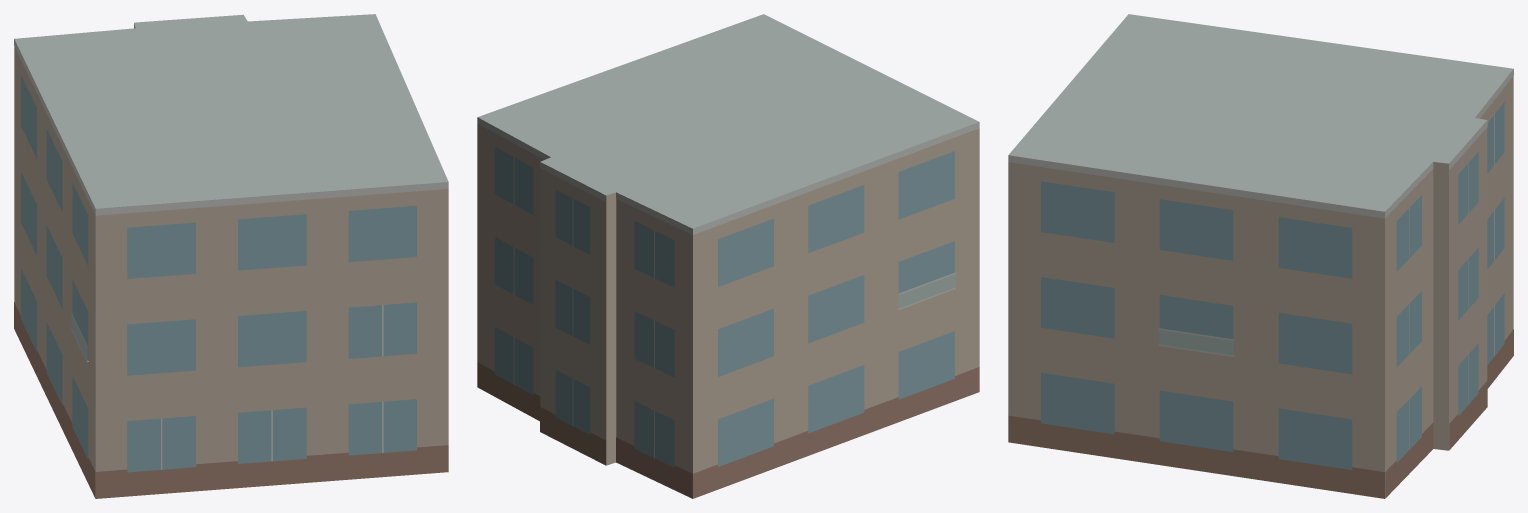
Rendered from survey-upis-32888504.glb.
The picture shows the model from 3 angles, left to right: view 1: azimuth 30°, elevation 25°; view 2: azimuth 150°, elevation 25°; view 3: azimuth 270°, elevation 25°; orthographic projection. The views are drawn at different scales.
Visible parts, largest first — view 1: survey-upis-32888504.tmp; view 2: survey-upis-32888504.tmp; view 3: survey-upis-32888504.tmp.
Boxes of the visible parts, left/top/right/bottom form: survey-upis-32888504.tmp: left=14, top=14, right=448, bottom=498; survey-upis-32888504.tmp: left=477, top=14, right=979, bottom=498; survey-upis-32888504.tmp: left=1008, top=14, right=1513, bottom=498.
Size of the model in its own units: 15.23 by 10.3 by 16.45.
